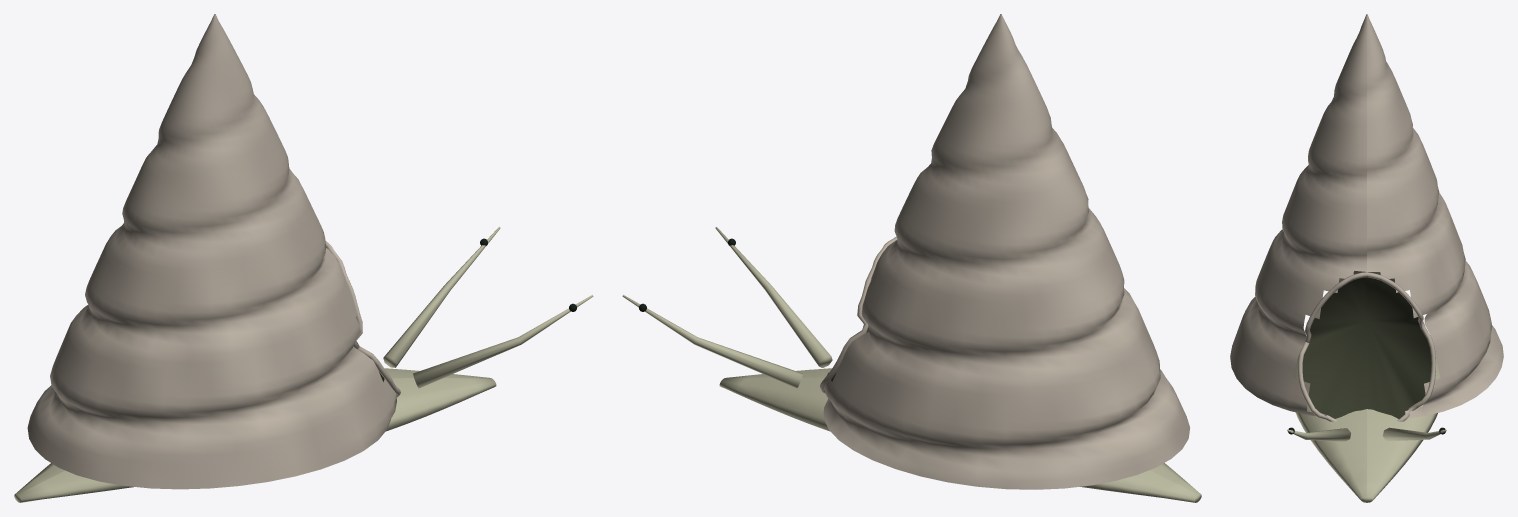
Rendered from trochus-mobile.glb.
3 views of the same model, side by side, from view 1: azimuth 30°, elevation 25°; view 2: azimuth 150°, elevation 25°; view 3: azimuth 270°, elevation 25° (orthographic). The views are drawn at different scales.
Visible parts, largest first — view 1: connected-whorled-shell, muscular-foot, cephalic-tentacle, aperture-lip; view 2: connected-whorled-shell, muscular-foot, cephalic-tentacle, aperture-lip; view 3: connected-whorled-shell, recessed-aperture, muscular-foot, aperture-lip, cephalic-tentacle.
Boxes of the visible parts, left/top/right/bottom form: connected-whorled-shell: left=27, top=14, right=396, bottom=489; muscular-foot: left=14, top=368, right=496, bottom=502; cephalic-tentacle: left=383, top=227, right=593, bottom=388; aperture-lip: left=325, top=241, right=400, bottom=397; connected-whorled-shell: left=823, top=14, right=1189, bottom=489; muscular-foot: left=719, top=368, right=1201, bottom=502; cephalic-tentacle: left=622, top=227, right=832, bottom=388; aperture-lip: left=820, top=236, right=897, bottom=393; connected-whorled-shell: left=1230, top=14, right=1503, bottom=418; recessed-aperture: left=1302, top=277, right=1431, bottom=418; muscular-foot: left=1294, top=354, right=1440, bottom=502; aperture-lip: left=1298, top=272, right=1435, bottom=421; cephalic-tentacle: left=1287, top=427, right=1446, bottom=441.
Bounding box in the file's own units: 0.5905 × 0.469 × 0.3115.
